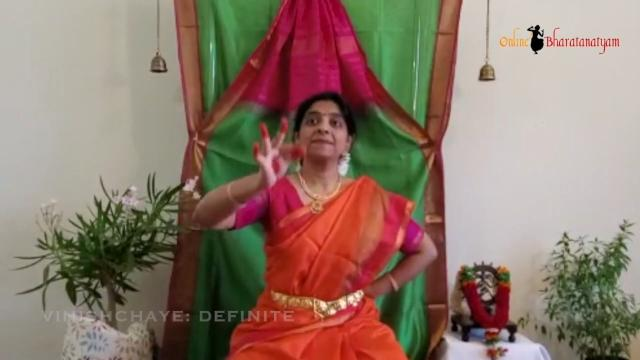hansaasya: (238, 112, 312, 200)
